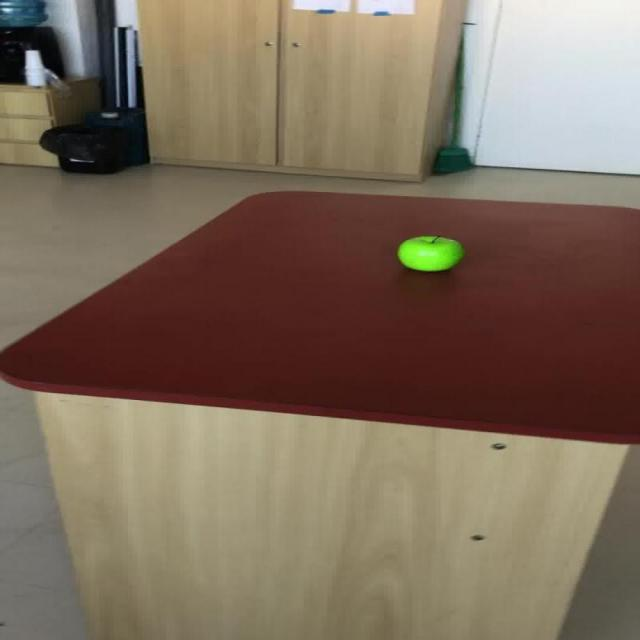Apple: (396, 234, 464, 271)
